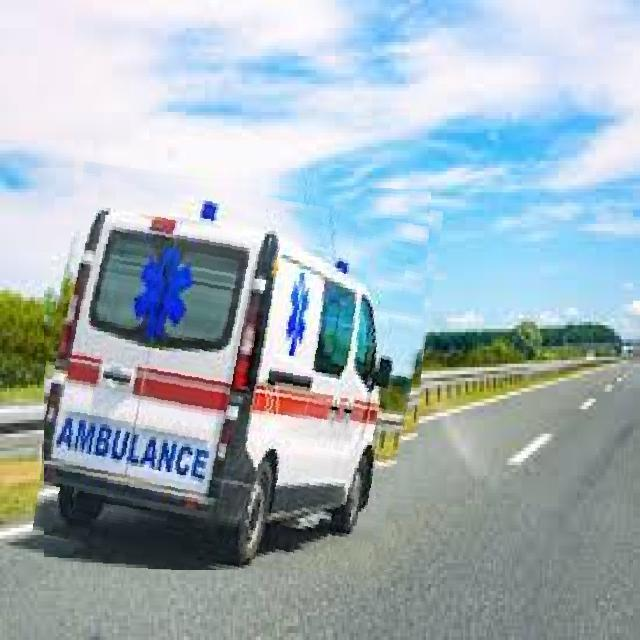ambulance: (44, 173, 431, 570)
